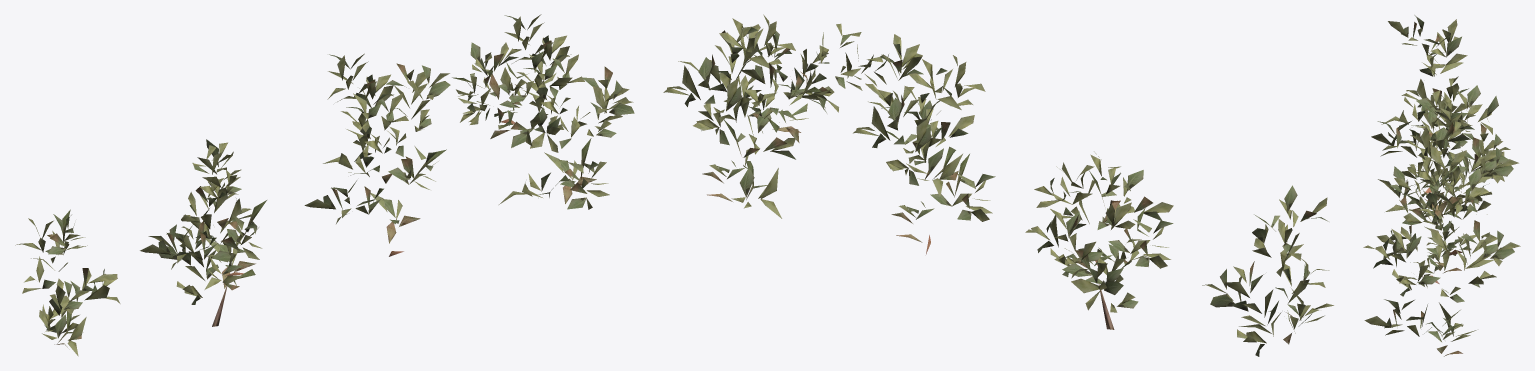
Rendered from shrub.glb.
3 views of the same model, side by side, from view 1: azimuth 30°, elevation 25°; view 2: azimuth 150°, elevation 25°; view 3: azimuth 270°, elevation 25° (orthographic). The views are drawn at different scales.
Parts seen in each view (by area): view 1: shrub_04; view 2: shrub_04; view 3: shrub_04.
Boxes of the visible parts, bbox=[...] form: shrub_04: bbox=[15, 14, 634, 356]; shrub_04: bbox=[663, 14, 1333, 356]; shrub_04: bbox=[1363, 15, 1520, 356].
Bounding box in the file's own units: 0.5837 × 0.2156 × 0.1461.
1 material, 1 textured.
